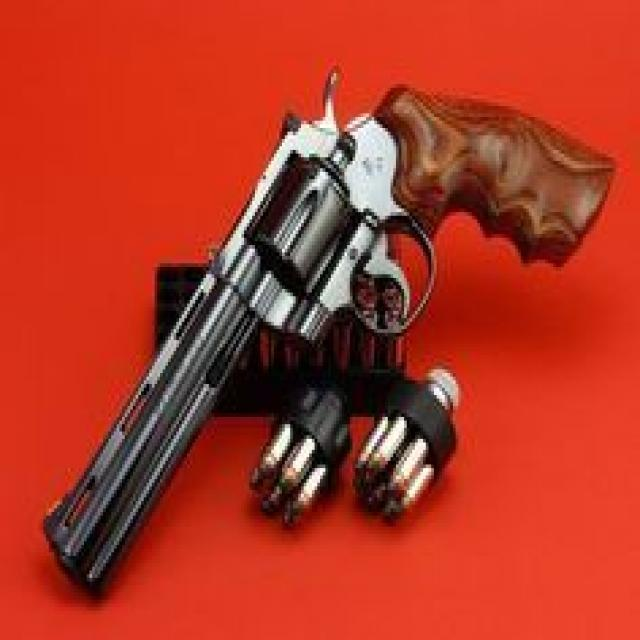revolver: (31, 59, 634, 610)
